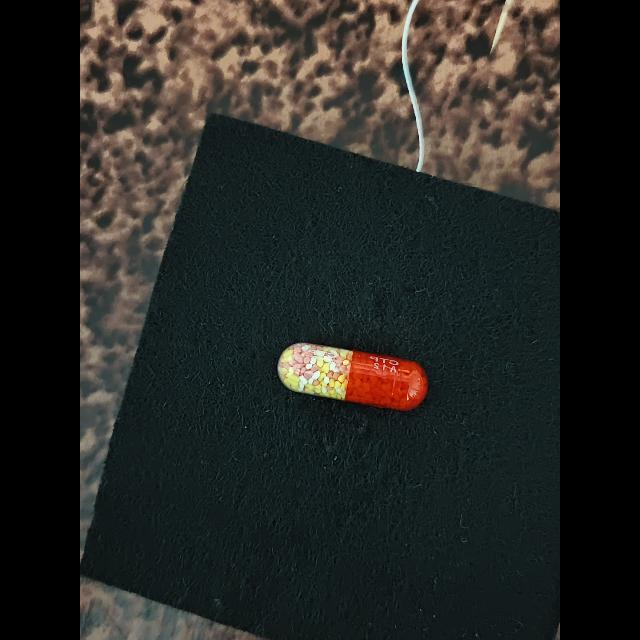Intact Capsule: (277, 342, 428, 410)
